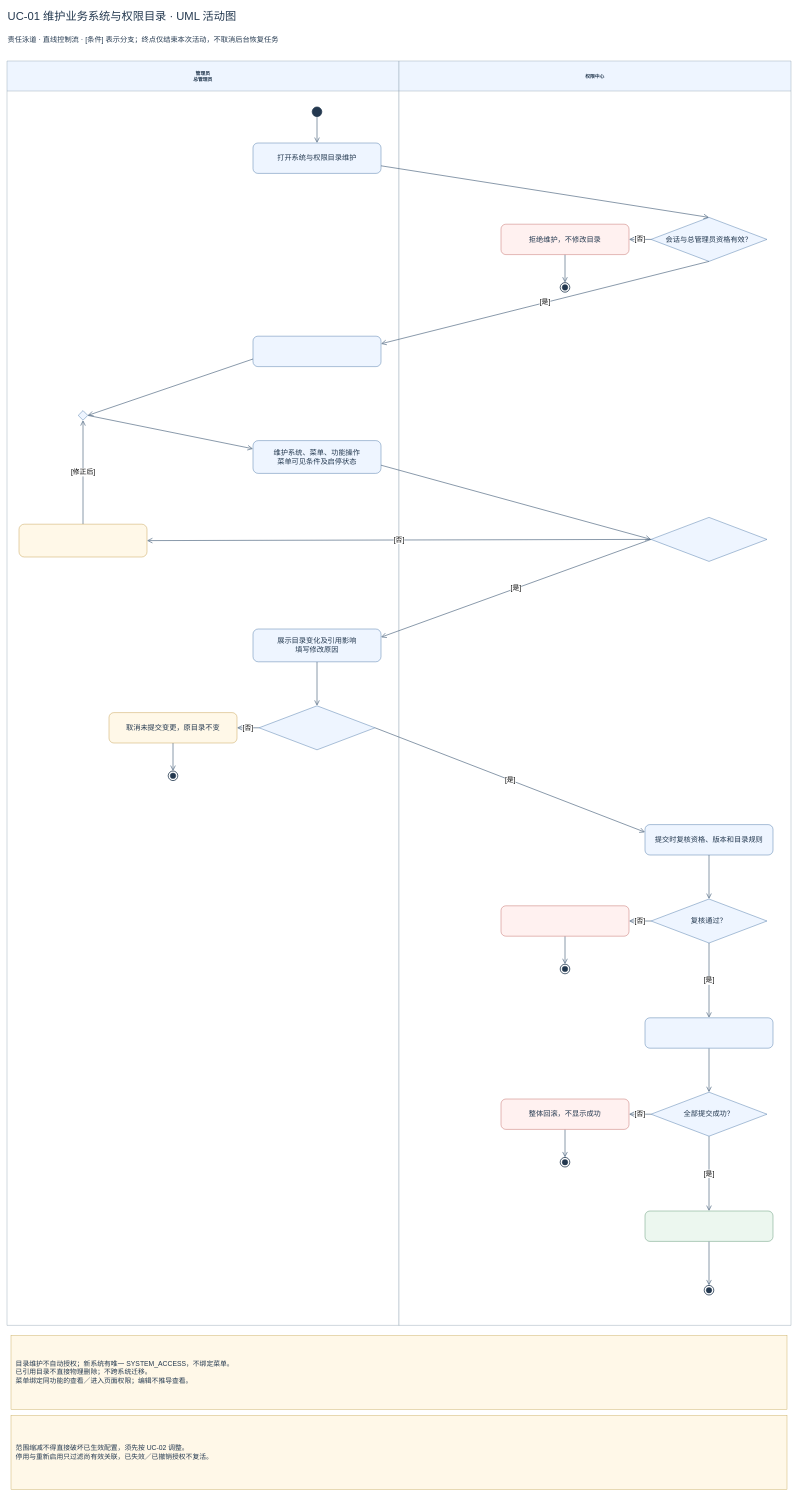
Some shapes in this 798 by 1496 pixel diagram are drawn without their labels. Here are the shapes that lost their labels. From the top down, the centre of each, then its label:
pixel 317 351: 选择已有系统或登记新系统
pixel 83 540: 显示问题字段与原因 修正本次输入
pixel 709 539: 编码、归属、层级、权限状态及绑定合法？
pixel 317 727: 确认保存？
pixel 565 920: 拒绝保存，提示冲突或资格变化
pixel 709 1032: 同一事务保存目录、版本与成功审计
pixel 709 1226: 显示保存结果及对象启停状态
